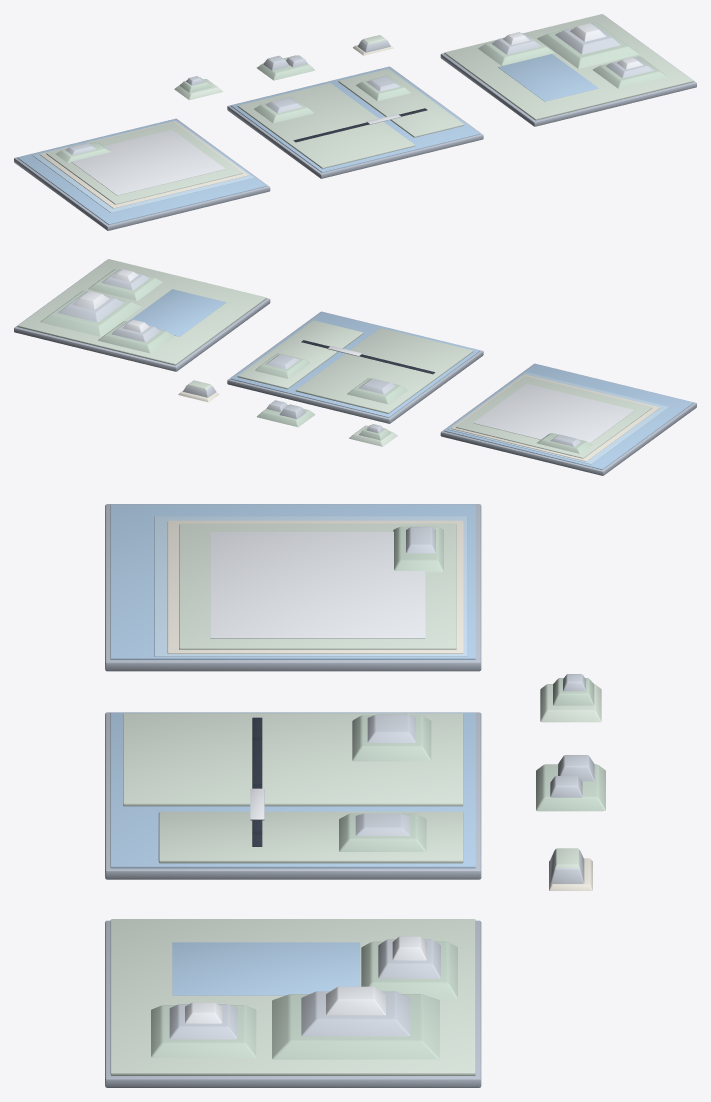
Rendered from terrain_sectors.glb.
3 renders of one model, top to bottom at view 1: azimuth 30°, elevation 25°; view 2: azimuth 150°, elevation 25°; view 3: azimuth 270°, elevation 25°, orthographic. The views are drawn at different scales.
Visible parts, largest first — view 1: Terrain_EnrouteSector_Mesh, Terrain_TowerSector_Mesh, Terrain_ApproachSector_Mesh, Hill_Cluster_B_Mesh, Hill_Cluster_A_Mesh, Coast_Cliff_A_Mesh; view 2: Terrain_EnrouteSector_Mesh, Terrain_TowerSector_Mesh, Terrain_ApproachSector_Mesh, Hill_Cluster_B_Mesh, Hill_Cluster_A_Mesh, Coast_Cliff_A_Mesh; view 3: Terrain_EnrouteSector_Mesh, Terrain_ApproachSector_Mesh, Terrain_TowerSector_Mesh, Hill_Cluster_B_Mesh, Hill_Cluster_A_Mesh, Coast_Cliff_A_Mesh.
Boxes of the visible parts, <box> form: Terrain_EnrouteSector_Mesh: <box>440,14,696,126</box>; Terrain_TowerSector_Mesh: <box>14,118,270,230</box>; Terrain_ApproachSector_Mesh: <box>227,66,483,178</box>; Hill_Cluster_B_Mesh: <box>257,55,315,80</box>; Hill_Cluster_A_Mesh: <box>174,76,222,99</box>; Coast_Cliff_A_Mesh: <box>353,35,393,55</box>; Terrain_EnrouteSector_Mesh: <box>14,259,270,371</box>; Terrain_TowerSector_Mesh: <box>440,363,696,475</box>; Terrain_ApproachSector_Mesh: <box>227,311,483,423</box>; Hill_Cluster_B_Mesh: <box>257,400,315,427</box>; Hill_Cluster_A_Mesh: <box>349,424,397,446</box>; Coast_Cliff_A_Mesh: <box>178,380,219,402</box>; Terrain_EnrouteSector_Mesh: <box>105,919,481,1087</box>; Terrain_ApproachSector_Mesh: <box>105,712,481,879</box>; Terrain_TowerSector_Mesh: <box>105,504,481,671</box>; Hill_Cluster_B_Mesh: <box>536,755,605,811</box>; Hill_Cluster_A_Mesh: <box>540,674,601,722</box>; Coast_Cliff_A_Mesh: <box>549,848,592,890</box>.
Size of the model in its own units: 304 by 12.4 by 112.
9 materials, 1 textured.
